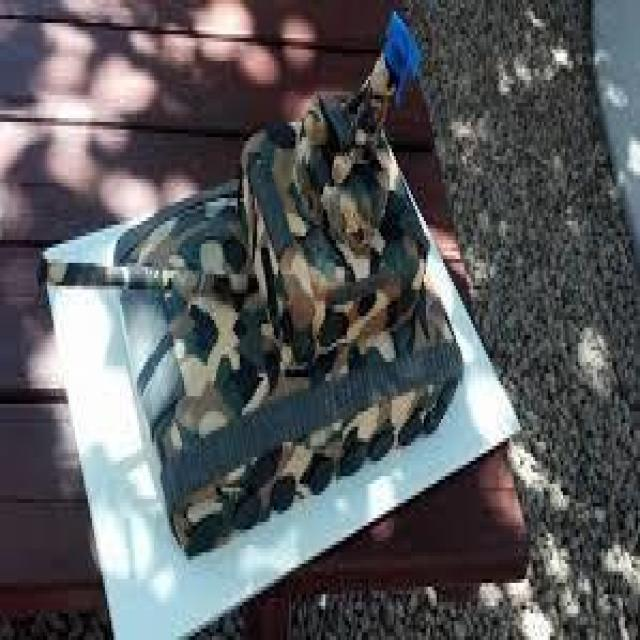Tanks: (111, 103, 484, 545)
